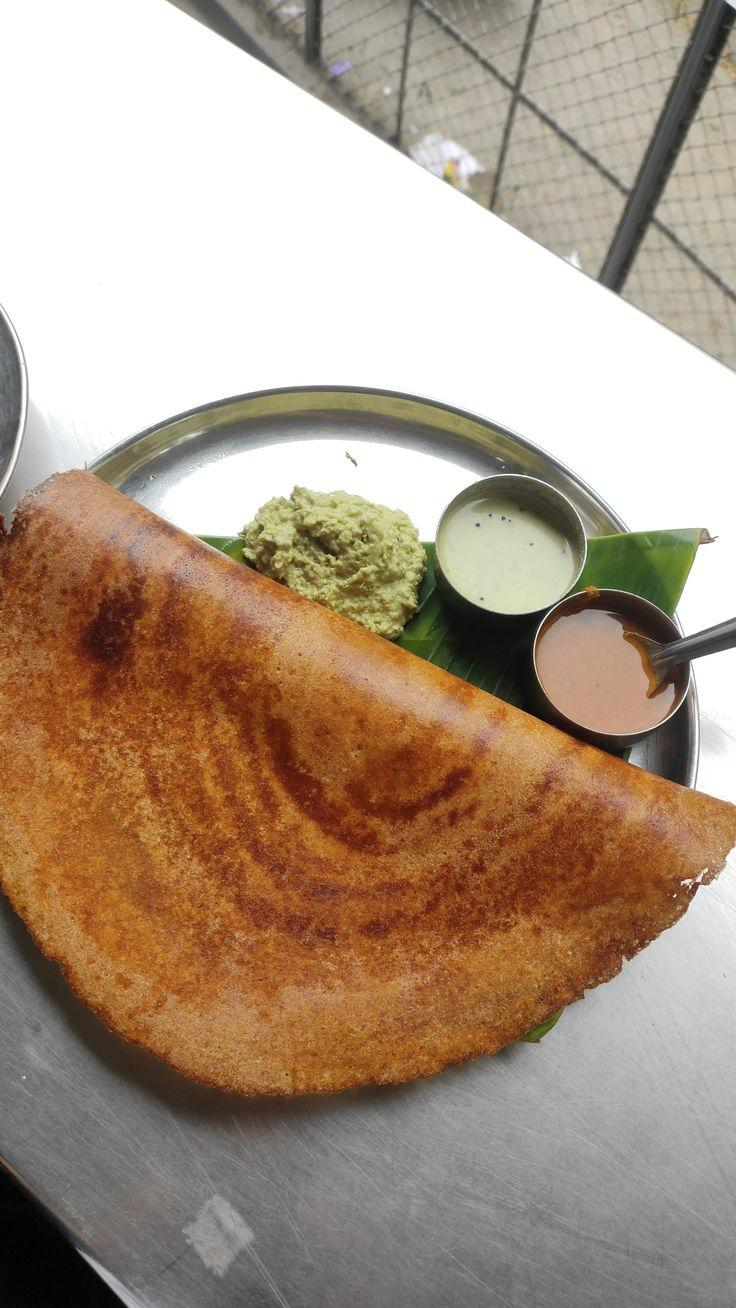dosa: (0, 602, 696, 1119)
